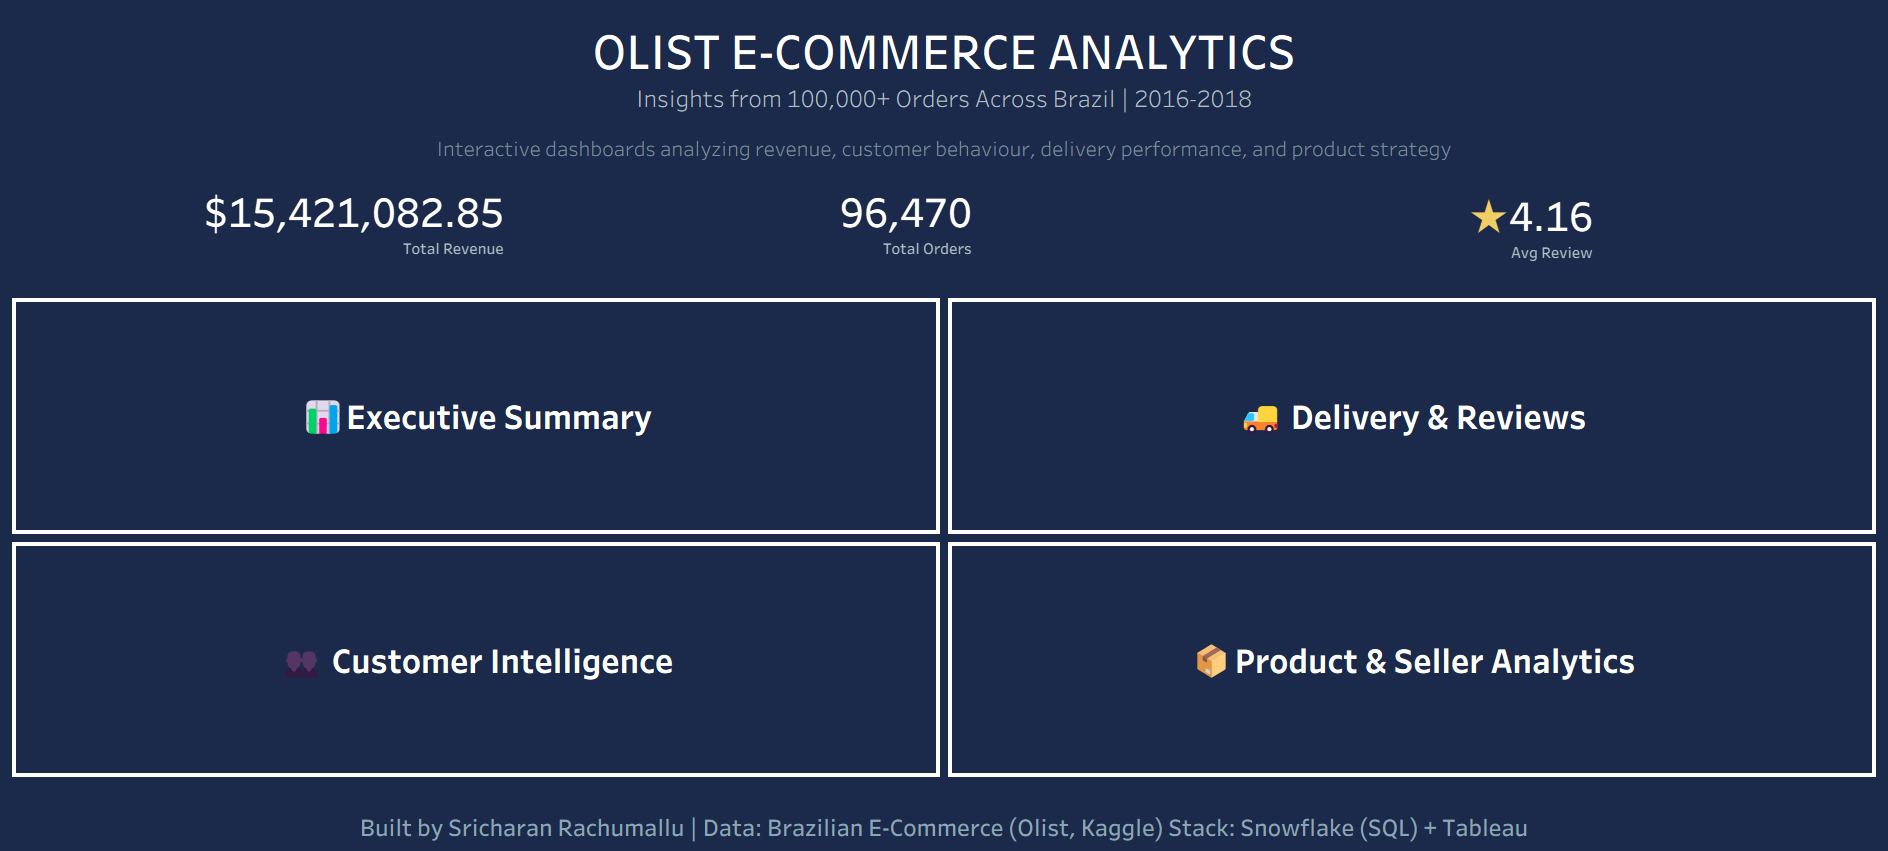

Layout of this report page (visuals, bound fields, positions):
{"tool":"tableau","page":{"name":"Navigation","canvas":[1000,1000],"units":"permille","ordinal":3},"visuals":[{"type":"text","box":[4.2,9.4,991.5,195.1]},{"type":"worksheet","title":"Nav KPI Revenue","mark":"Automatic","box":[9.5,216.2,327.3,117.5]},{"type":"worksheet","title":"Nav KPI Orders","mark":"Automatic","box":[336.9,216.2,326.8,117.5]},{"type":"worksheet","title":"Nav KPI Review","mark":"Automatic","box":[663.7,216.2,326.8,117.5]},{"type":"dashboard-object","box":[4.2,345.5,495.8,286.7]},{"type":"dashboard-object","box":[500,345.5,495.8,286.7]},{"type":"dashboard-object","box":[4.2,632.2,495.8,285.5]},{"type":"dashboard-object","box":[500,632.2,495.8,285.5]},{"type":"text","box":[4.2,953,991.5,37.6]}]}

Visuals, with their boxes on the dashboard's canvas, which has no fixed pixel size, in thousandths of its width and height (x1, y1, x2, y2). These are canvas units, not pixel positions in the 1888x851 screenshot, which may show the page scaled, cropped or inside an application window:
text: [left=4, top=9, right=996, bottom=204]
"Nav KPI Revenue" worksheet: [left=10, top=216, right=337, bottom=334]
"Nav KPI Orders" worksheet: [left=337, top=216, right=664, bottom=334]
"Nav KPI Review" worksheet: [left=664, top=216, right=990, bottom=334]
dashboard-object: [left=4, top=346, right=500, bottom=632]
dashboard-object: [left=500, top=346, right=996, bottom=632]
dashboard-object: [left=4, top=632, right=500, bottom=918]
dashboard-object: [left=500, top=632, right=996, bottom=918]
text: [left=4, top=953, right=996, bottom=991]
